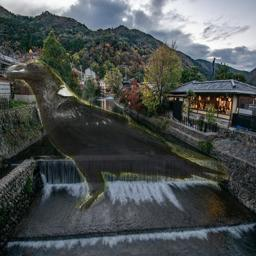Crow: (0, 60, 230, 215)
